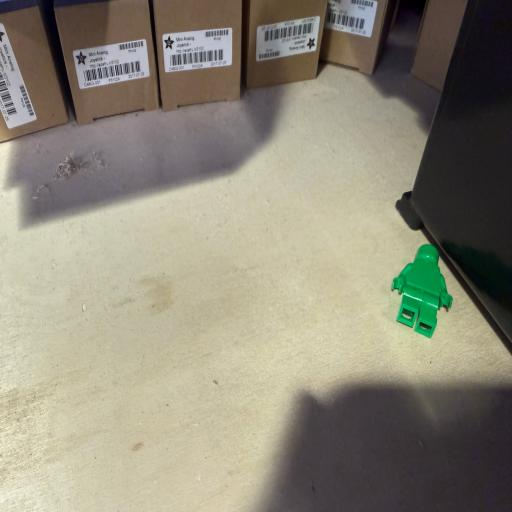Lego-Dude: (391, 244, 453, 338)
